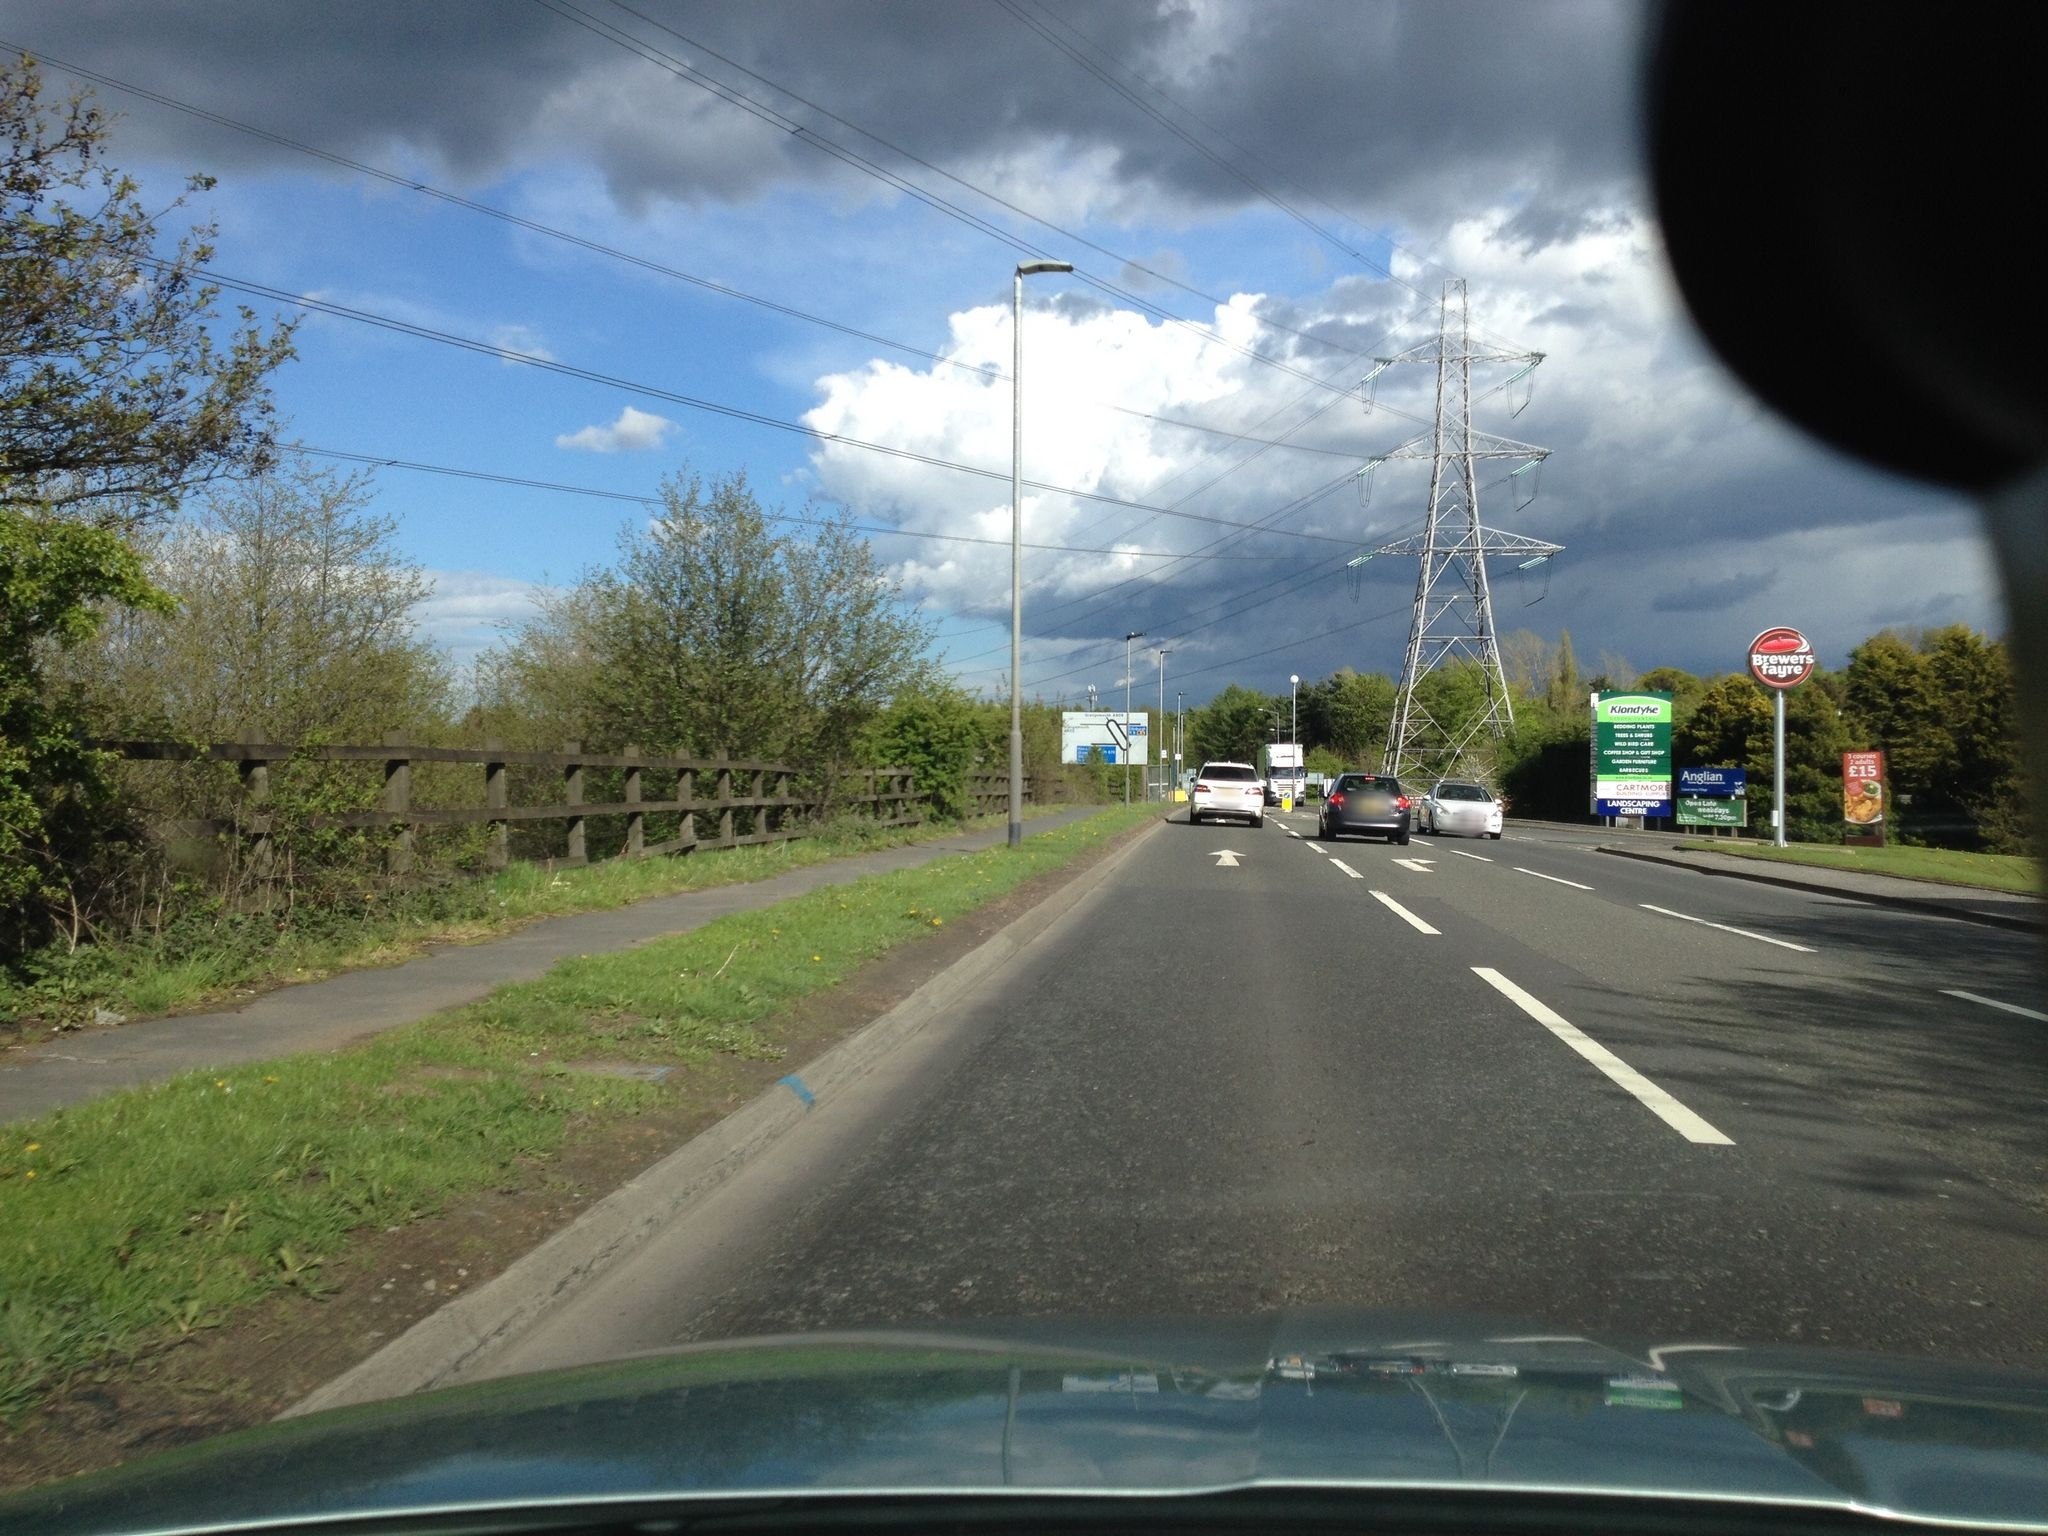car: (1317, 771, 1413, 845), (1188, 758, 1268, 829), (1414, 783, 1505, 841)
truck: (1255, 744, 1306, 807)
